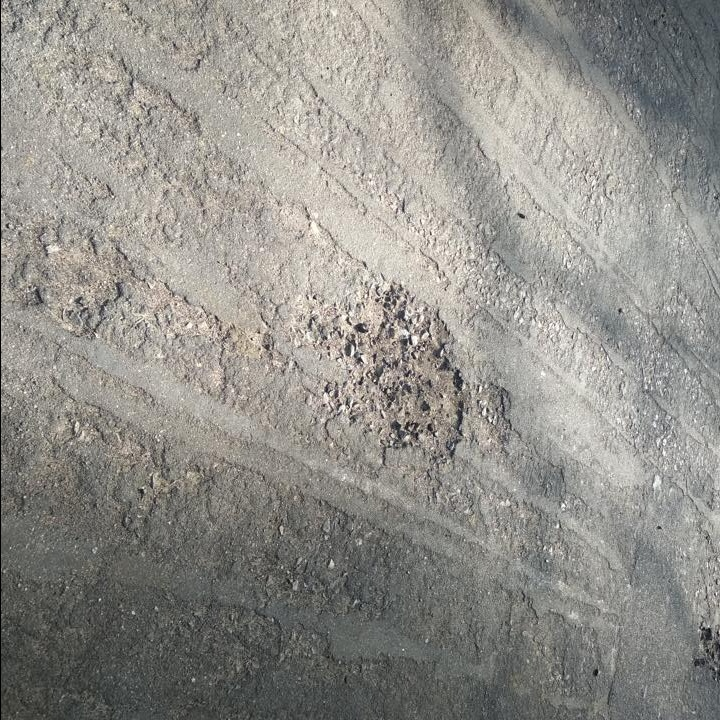pothole: (318, 267, 471, 468), (472, 378, 515, 443)
